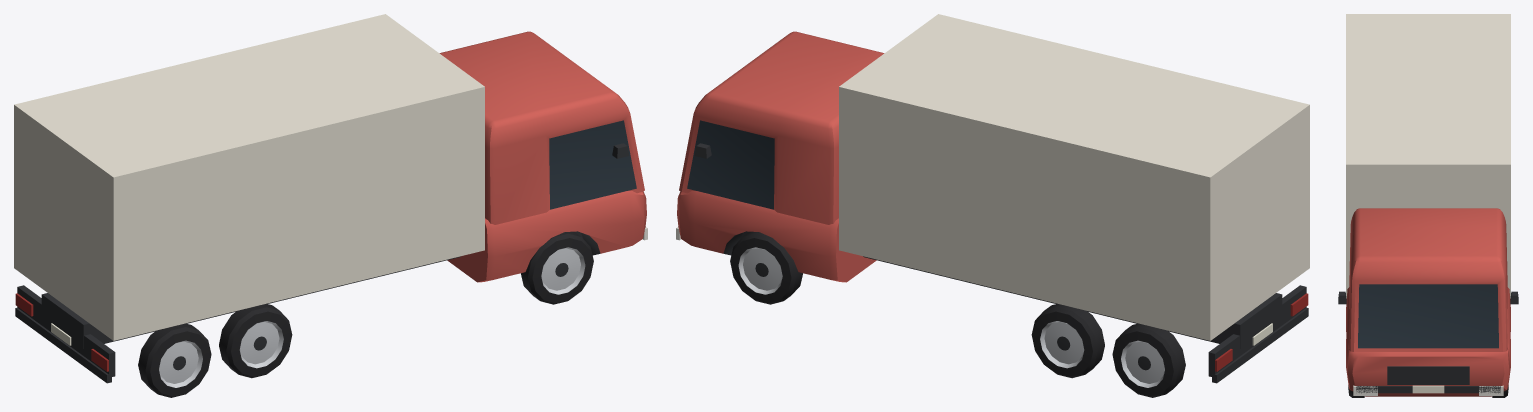
Rendered from truck.glb.
3 views of the same model, side by side, from view 1: azimuth 30°, elevation 25°; view 2: azimuth 150°, elevation 25°; view 3: azimuth 270°, elevation 25° (orthographic). The views are drawn at different scales.
Visible parts, largest first — view 1: truck; view 2: truck; view 3: truck.
Part boxes in pixels (x1=…): truck: x1=14, y1=14, x2=647, y2=397; truck: x1=676, y1=14, x2=1309, y2=397; truck: x1=1338, y1=14, x2=1518, y2=397.
Bounding box in the file's own units: 7.56 × 3.17 × 2.62.
